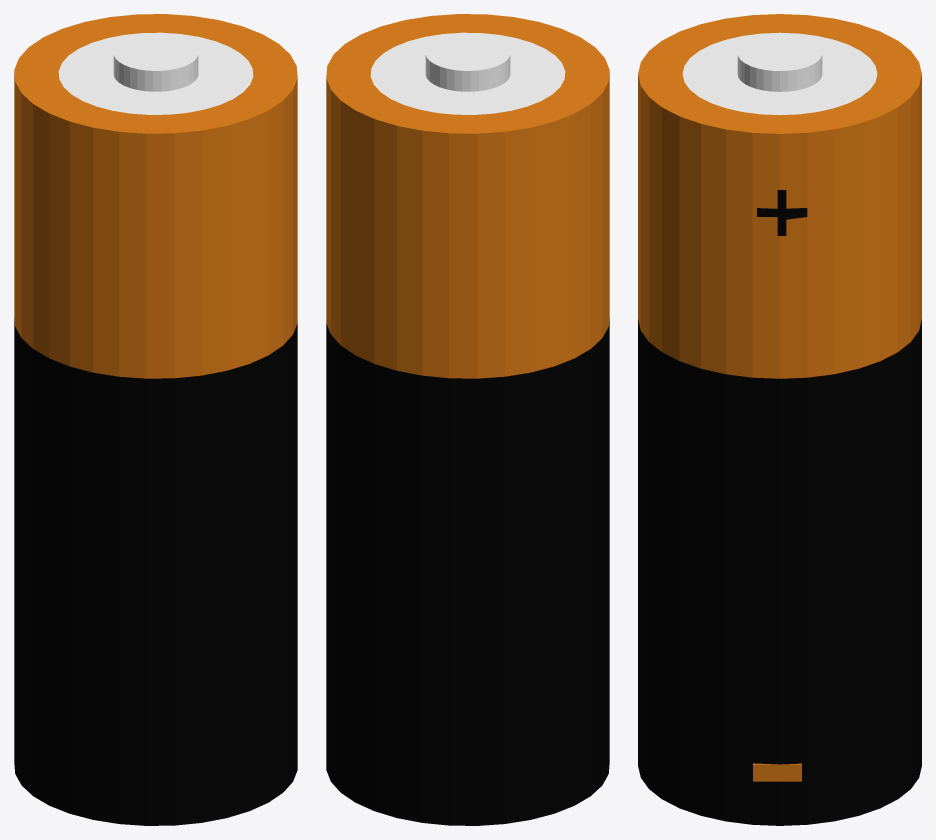
The model's file is Battery.fbx.
The picture shows the model from 3 angles, left to right: view 1: azimuth 30°, elevation 25°; view 2: azimuth 150°, elevation 25°; view 3: azimuth 270°, elevation 25°; orthographic projection.
Visible parts, largest first — view 1: Battery; view 2: Battery; view 3: Battery.
Boxes of the visible parts, x1,y1,x2,y2 form: Battery: (14,14,297,825); Battery: (326,14,609,825); Battery: (638,14,921,825).
Size of the model in its own units: 53.07 by 144 by 51.86.
